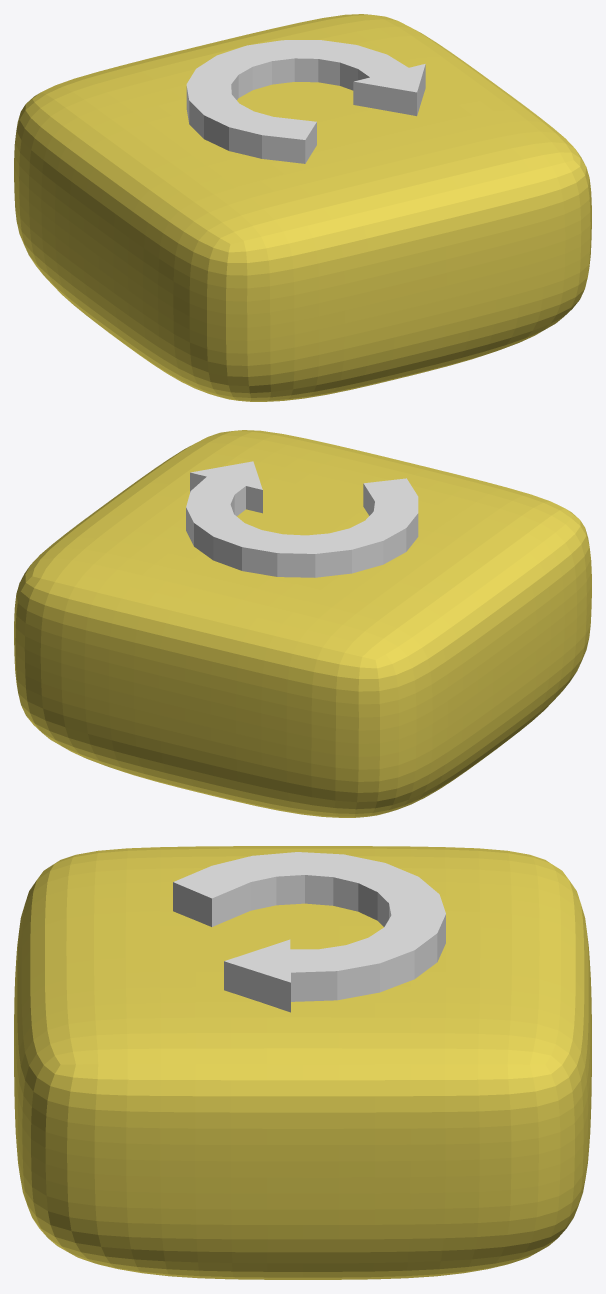
File: rotate.fbx
The picture shows the model from 3 angles, top to bottom: view 1: azimuth 30°, elevation 25°; view 2: azimuth 150°, elevation 25°; view 3: azimuth 270°, elevation 25°; orthographic projection. The views are drawn at different scales.
Visible parts, largest first — view 1: herbe.003; view 2: herbe.003; view 3: herbe.003.
Part boxes in pixels (x1,y1,x2,y2): herbe.003: (14, 14, 591, 401); herbe.003: (14, 430, 591, 817); herbe.003: (14, 846, 591, 1279).
Size of the model in its own units: 105 by 58.24 by 105.
